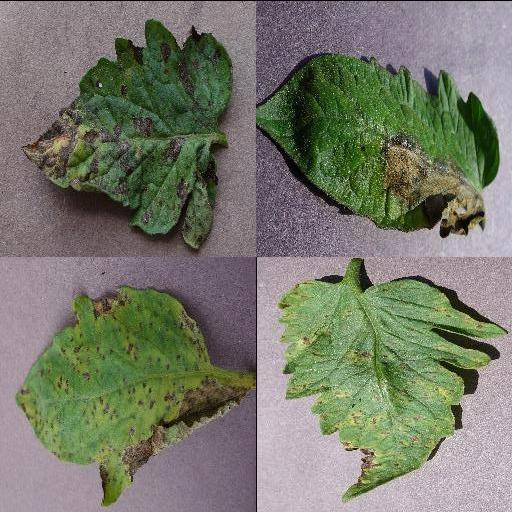Early Blight: (21, 22, 235, 246)
Late Blight: (256, 51, 500, 238)
Septoria: (14, 286, 256, 504), (277, 276, 507, 502)
